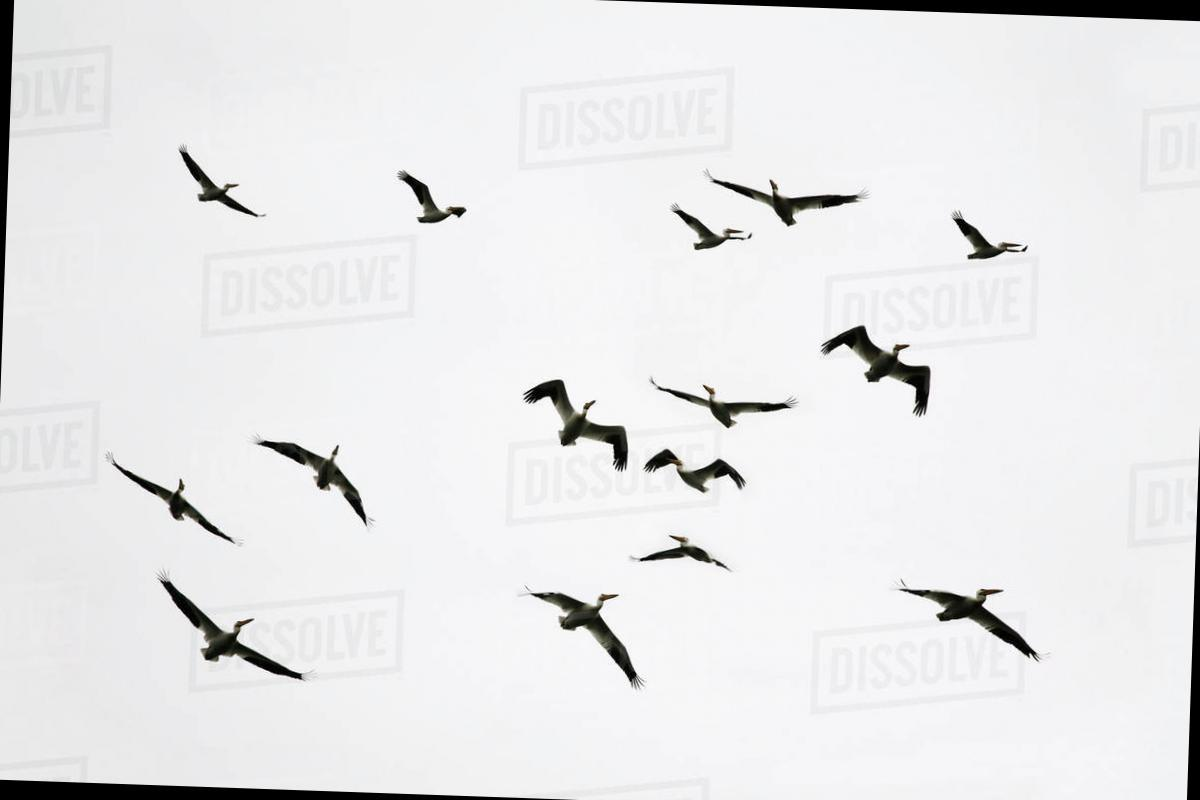bird: (135, 554, 327, 699), (873, 557, 1058, 671), (502, 577, 654, 701), (236, 416, 384, 536), (804, 306, 949, 424), (502, 359, 636, 477), (159, 127, 283, 230), (637, 363, 801, 431), (926, 198, 1045, 288), (380, 158, 488, 240), (616, 518, 748, 580), (653, 198, 754, 278), (635, 438, 752, 503)
